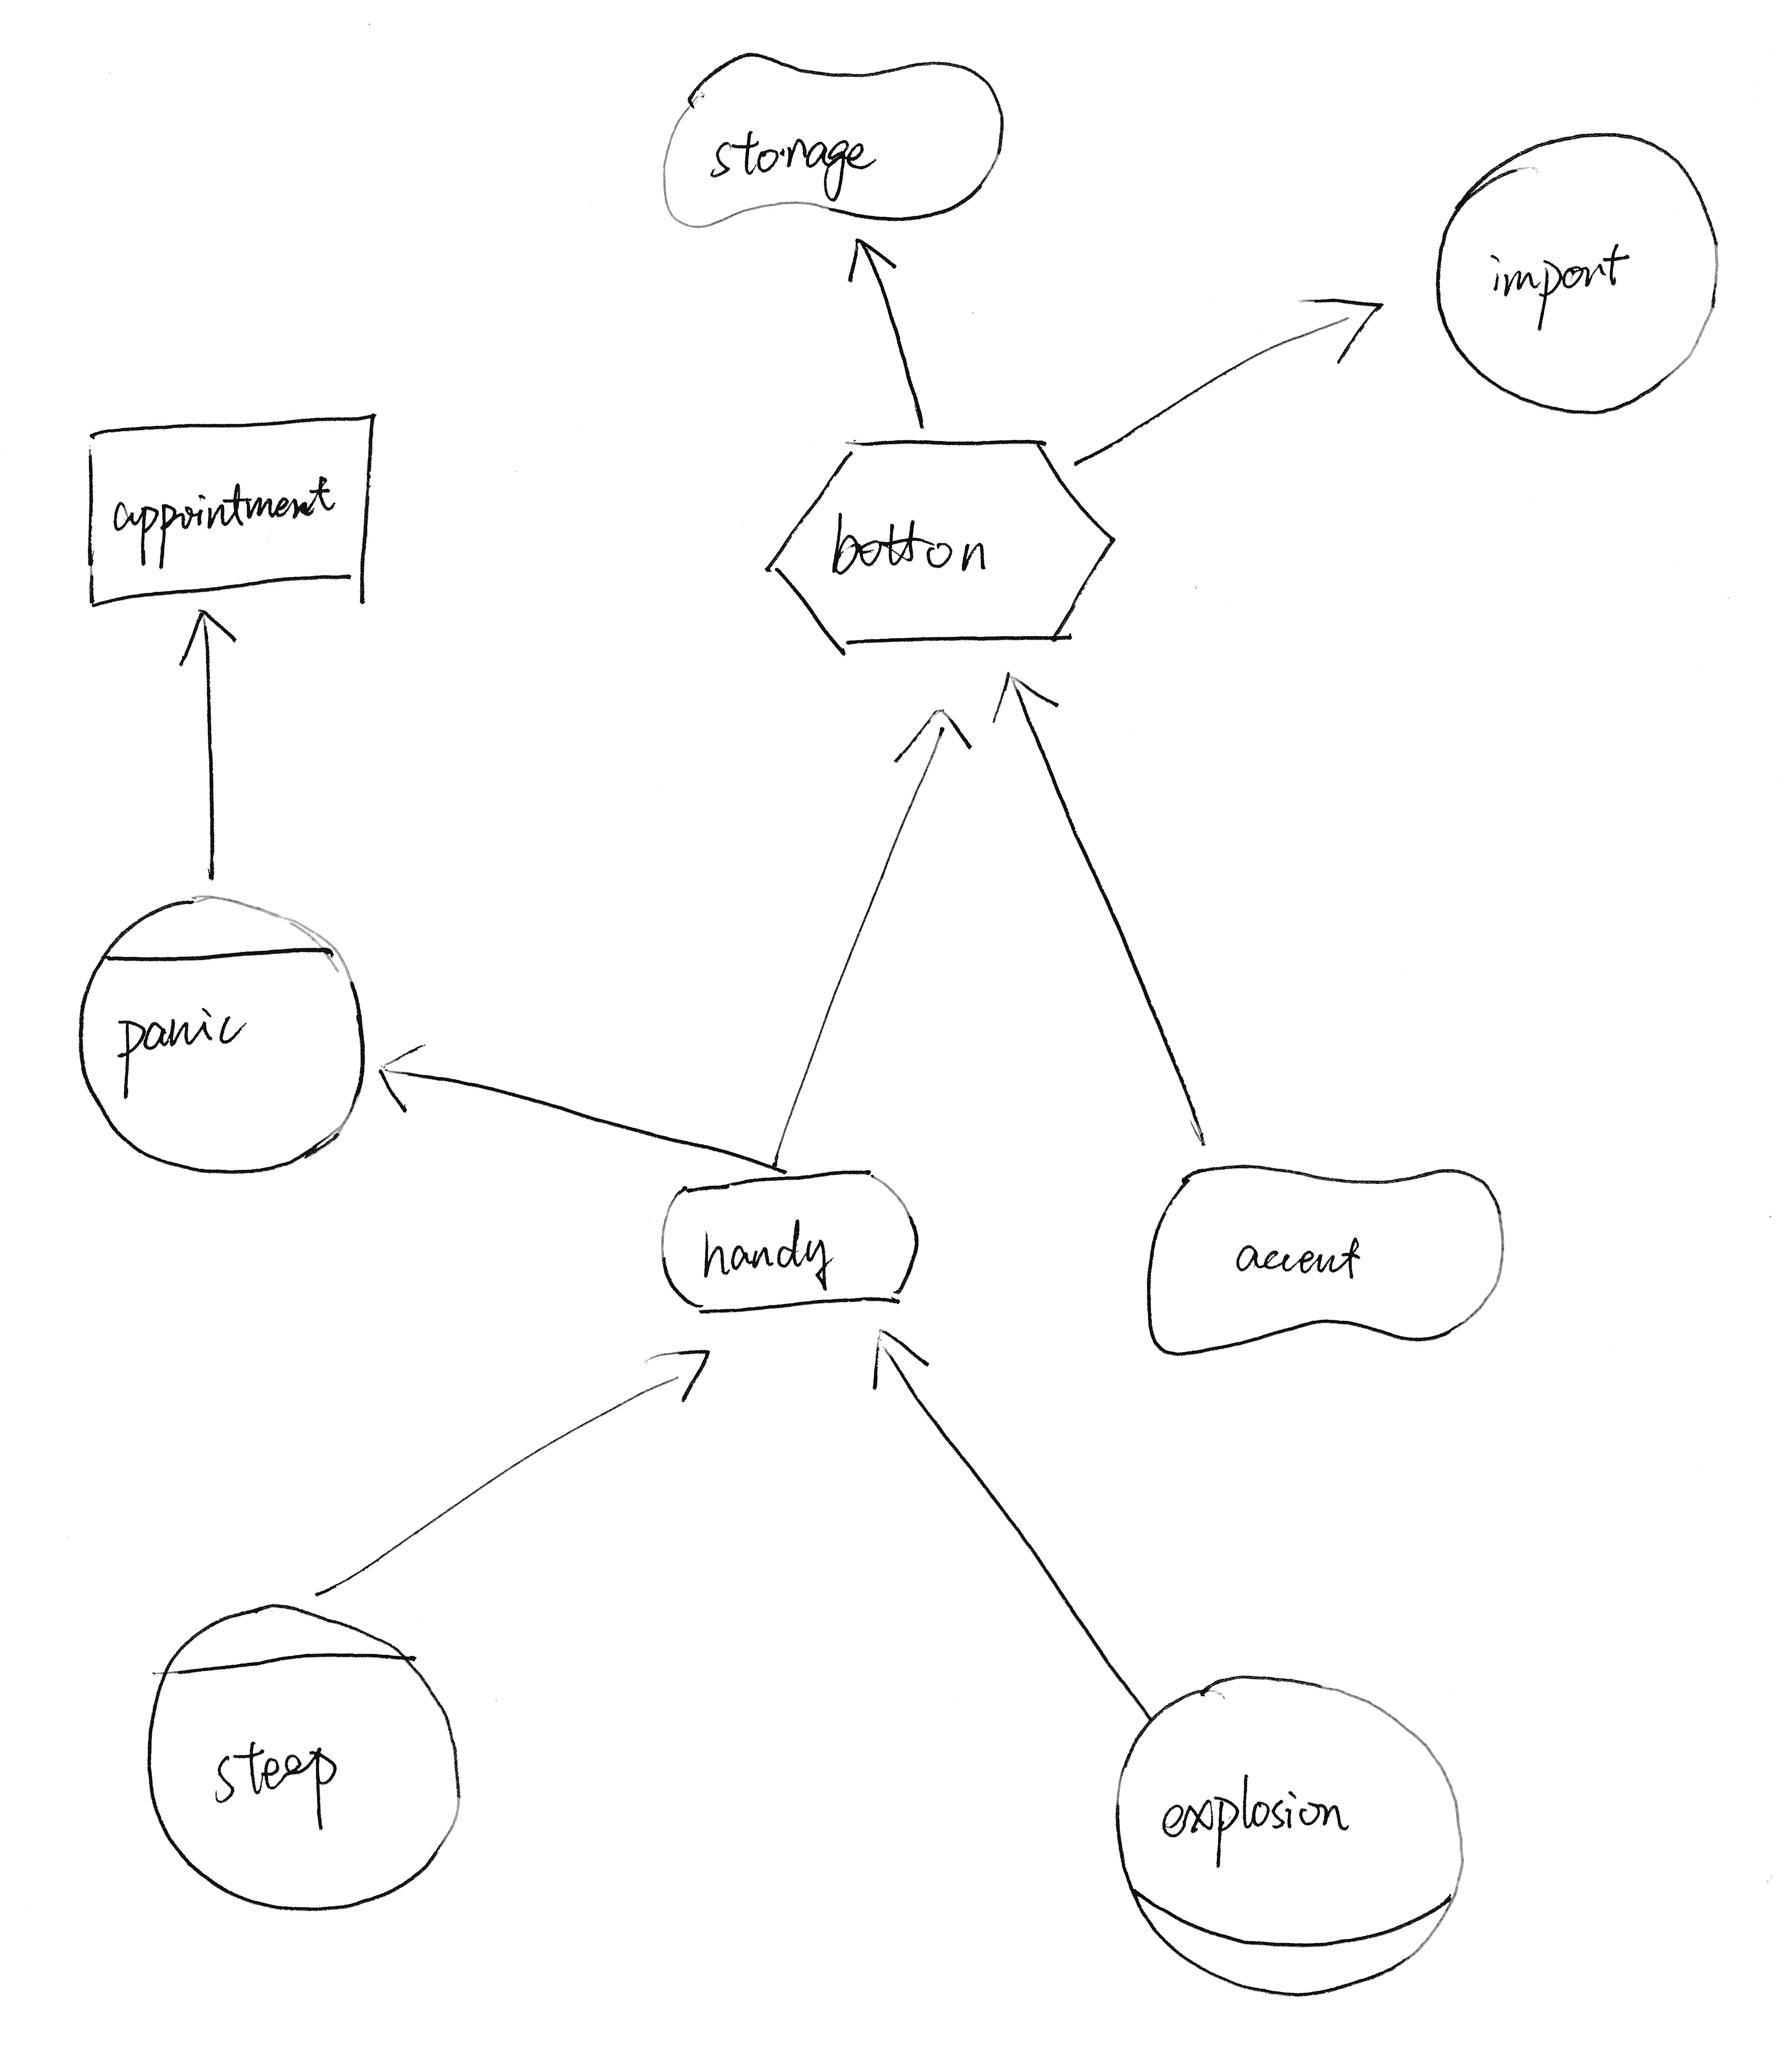actor: (1417, 112, 1736, 434)
agent: (126, 1591, 479, 1915), (66, 884, 385, 1188)
arrow: (1283, 258, 1403, 394), (856, 1315, 943, 1413), (880, 699, 981, 783), (985, 661, 1076, 745), (628, 1338, 720, 1413), (368, 1034, 438, 1130), (167, 600, 244, 677), (838, 221, 908, 298)
goal: (640, 1155, 943, 1327)
quality: (1124, 1142, 1525, 1383), (647, 30, 1013, 242)
resource: (61, 380, 396, 623)
role: (1098, 1659, 1480, 2013)
task: (751, 419, 1124, 671)
